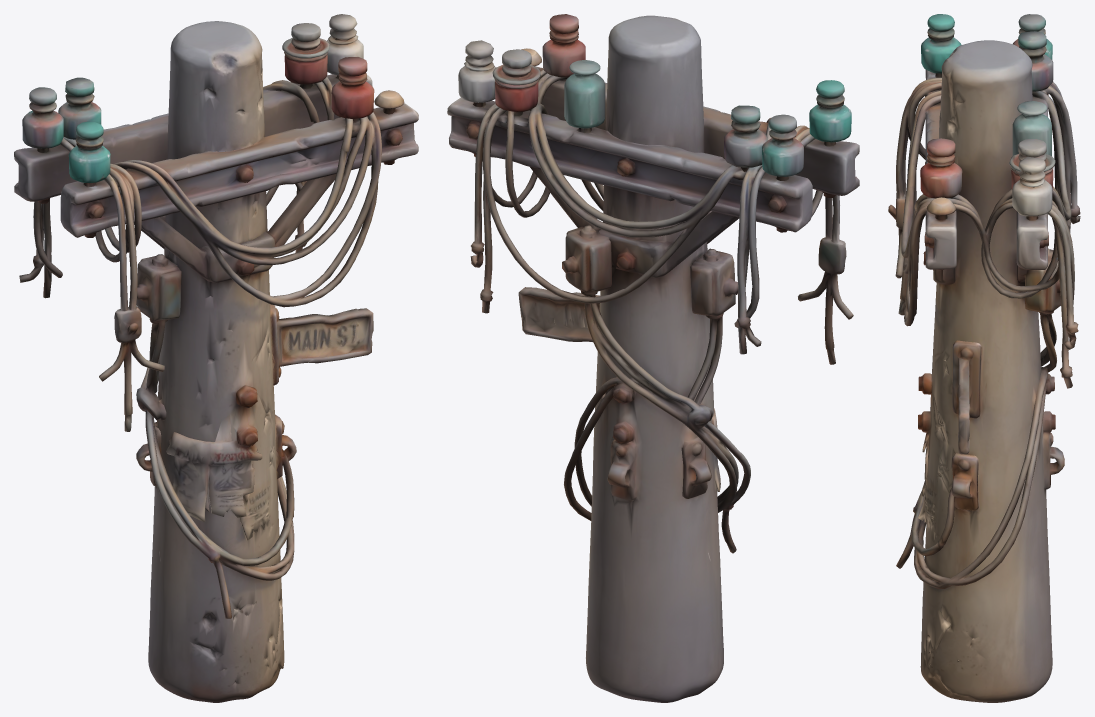
File: pole_concrete.glb
3 views of the same model, side by side, from view 1: azimuth 30°, elevation 25°; view 2: azimuth 150°, elevation 25°; view 3: azimuth 270°, elevation 25° (orthographic). The views are drawn at different scales.
Visible parts, largest first — view 1: tripo_part_2, tripo_part_1, tripo_part_0, tripo_part_11, tripo_part_10, tripo_part_6, tripo_part_5, tripo_part_3, tripo_part_7, tripo_part_4, tripo_part_13, tripo_part_9 (+2 smaller); view 2: tripo_part_2, tripo_part_10, tripo_part_0, tripo_part_11, tripo_part_1, tripo_part_5, tripo_part_12, tripo_part_3, tripo_part_4, tripo_part_13, tripo_part_9, tripo_part_7 (+2 smaller); view 3: tripo_part_2, tripo_part_0, tripo_part_11, tripo_part_1, tripo_part_5, tripo_part_7, tripo_part_8, tripo_part_10, tripo_part_4, tripo_part_12, tripo_part_14, tripo_part_9 (+3 smaller).
Boxes of the visible parts, x1=… form: tripo_part_2: x1=148, y1=21, x2=284, y2=702; tripo_part_1: x1=60, y1=103, x2=418, y2=282; tripo_part_0: x1=19, y1=76, x2=381, y2=431; tripo_part_11: x1=136, y1=254, x2=294, y2=618; tripo_part_10: x1=14, y1=74, x2=372, y2=248; tripo_part_6: x1=166, y1=414, x2=262, y2=521; tripo_part_5: x1=270, y1=304, x2=373, y2=385; tripo_part_3: x1=282, y1=23, x2=329, y2=89; tripo_part_7: x1=331, y1=57, x2=374, y2=124; tripo_part_4: x1=68, y1=121, x2=110, y2=187; tripo_part_13: x1=22, y1=87, x2=63, y2=152; tripo_part_9: x1=58, y1=77, x2=101, y2=139; tripo_part_2: x1=586, y1=15, x2=723, y2=702; tripo_part_10: x1=447, y1=97, x2=812, y2=277; tripo_part_0: x1=470, y1=69, x2=853, y2=364; tripo_part_11: x1=562, y1=225, x2=750, y2=553; tripo_part_1: x1=535, y1=66, x2=859, y2=243; tripo_part_5: x1=518, y1=287, x2=599, y2=341; tripo_part_12: x1=564, y1=60, x2=605, y2=135; tripo_part_3: x1=492, y1=49, x2=540, y2=116; tripo_part_4: x1=809, y1=80, x2=851, y2=147; tripo_part_13: x1=762, y1=114, x2=803, y2=180; tripo_part_9: x1=724, y1=105, x2=767, y2=171; tripo_part_7: x1=542, y1=14, x2=585, y2=77; tripo_part_2: x1=918, y1=40, x2=1064, y2=702; tripo_part_0: x1=888, y1=77, x2=1080, y2=388; tripo_part_11: x1=896, y1=248, x2=1060, y2=588; tripo_part_1: x1=923, y1=70, x2=956, y2=284; tripo_part_5: x1=952, y1=340, x2=981, y2=454; tripo_part_7: x1=920, y1=138, x2=962, y2=198; tripo_part_8: x1=1012, y1=156, x2=1052, y2=220; tripo_part_10: x1=1016, y1=94, x2=1048, y2=282; tripo_part_4: x1=921, y1=14, x2=961, y2=77; tripo_part_12: x1=1012, y1=101, x2=1051, y2=155; tripo_part_14: x1=951, y1=453, x2=978, y2=510; tripo_part_9: x1=1018, y1=31, x2=1053, y2=91.
Size of the model in its own units: 0.5539 by 0.9804 by 0.2731.
1 material, 1 textured.
